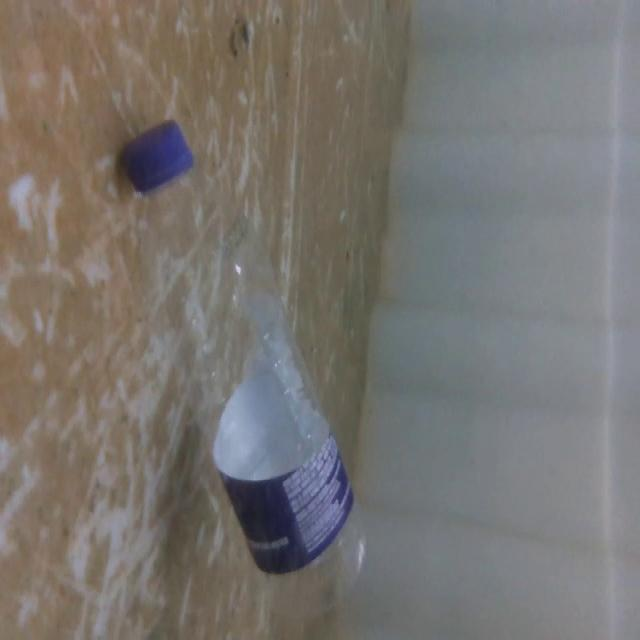plastic bottle: (111, 97, 376, 609)
